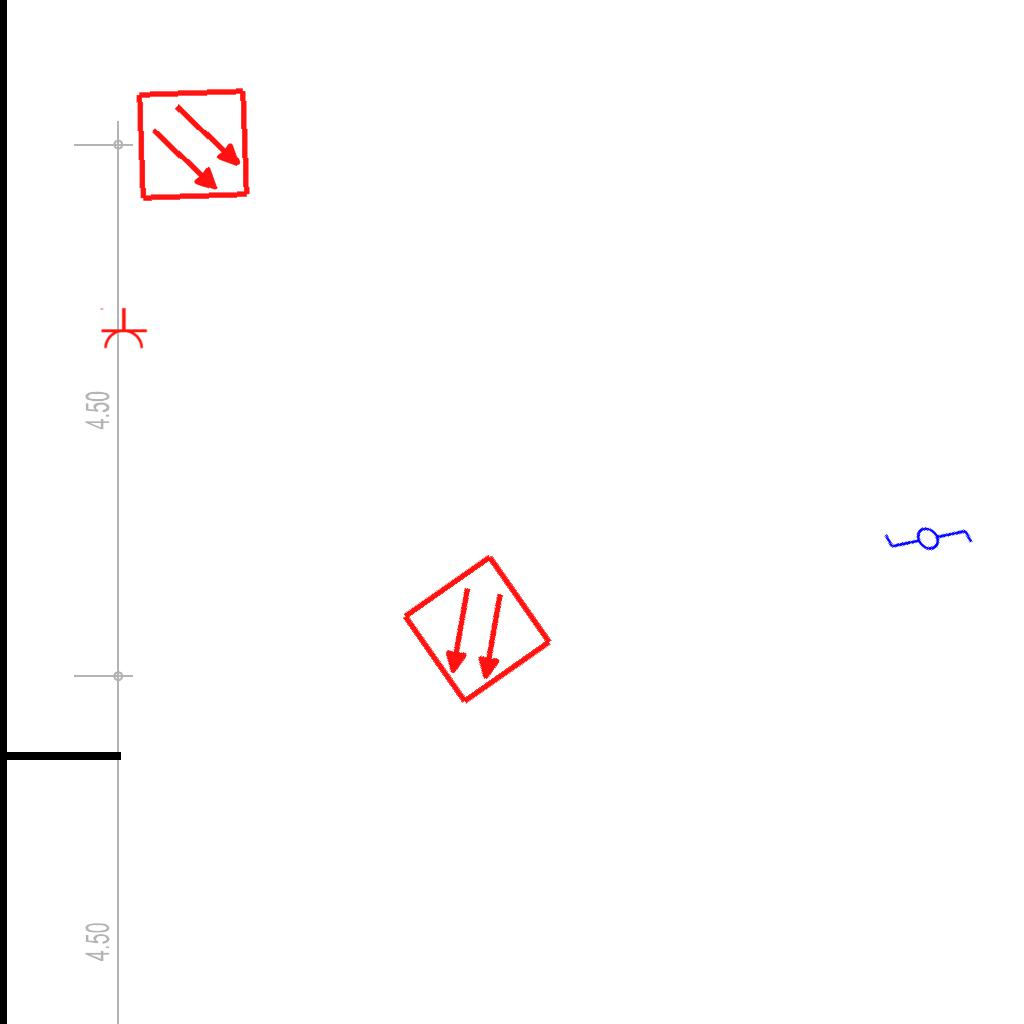RMO_Rauchmelder_optischer: (398, 550, 557, 709), (135, 86, 252, 203)
Schukosteckdose_einfach: (98, 307, 148, 350)
Wechselschalter: (873, 481, 979, 589)
